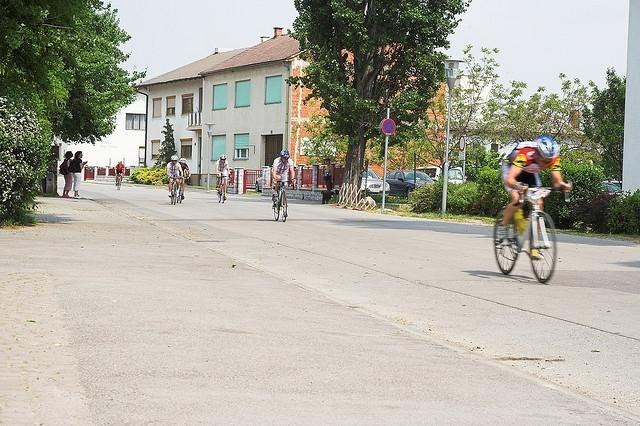bicycle: (493, 184, 571, 282), (272, 180, 293, 222), (168, 175, 182, 205), (176, 176, 190, 204), (218, 180, 225, 196), (115, 178, 121, 190)
car: (381, 170, 436, 198), (416, 164, 466, 186), (360, 169, 390, 196), (604, 180, 622, 195)
